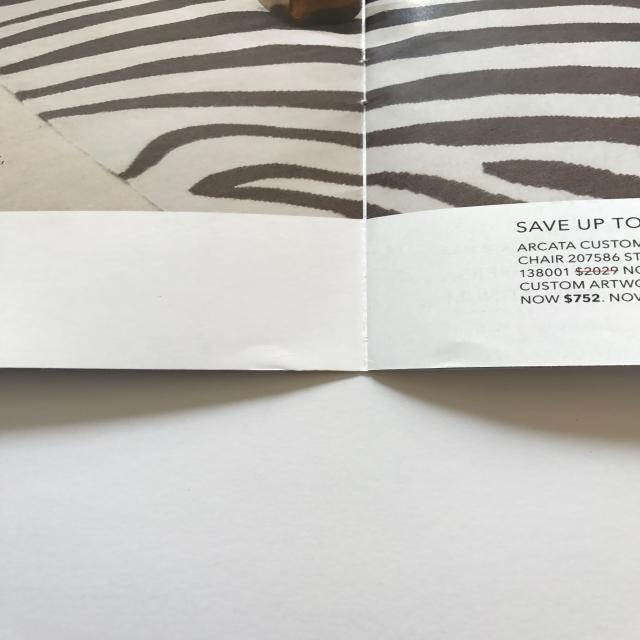paper: (0, 197, 640, 373)
